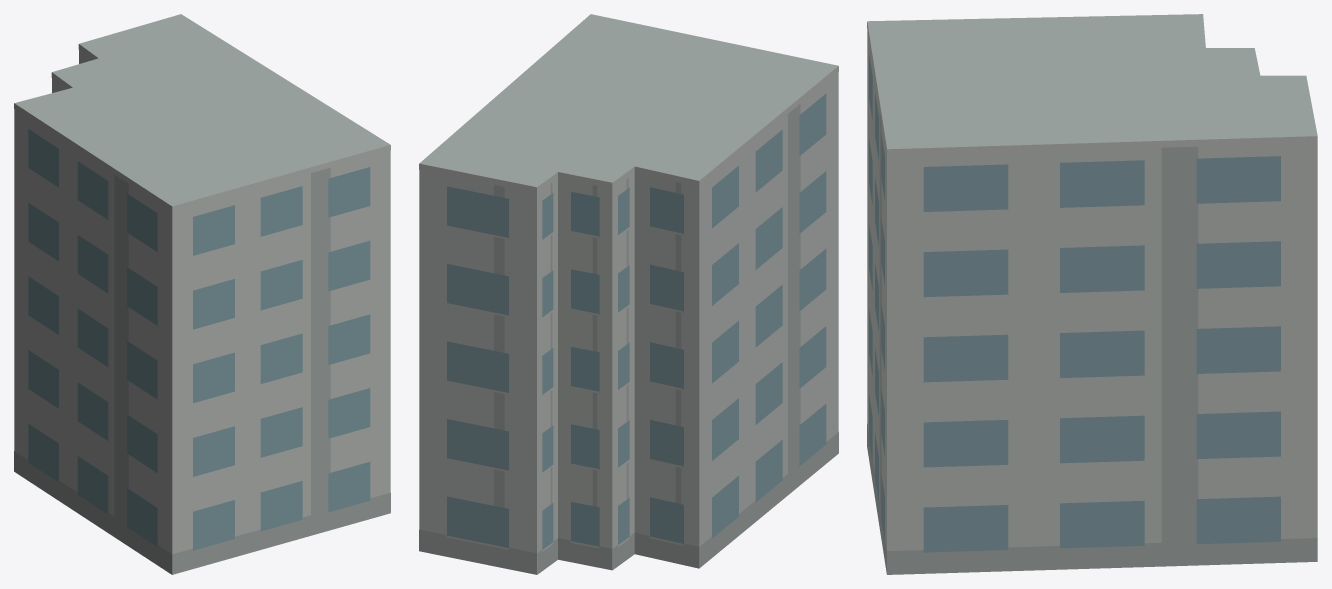
The model's file is survey-upis-32964768.glb.
The picture shows the model from 3 angles, left to right: view 1: azimuth 30°, elevation 25°; view 2: azimuth 150°, elevation 25°; view 3: azimuth 270°, elevation 25°; orthographic projection. The views are drawn at different scales.
Visible parts, largest first — view 1: survey-upis-32964768.tmp; view 2: survey-upis-32964768.tmp; view 3: survey-upis-32964768.tmp.
Boxes of the visible parts, x1,y1,x2,y2 form: survey-upis-32964768.tmp: (14, 14, 390, 574); survey-upis-32964768.tmp: (419, 14, 838, 574); survey-upis-32964768.tmp: (867, 14, 1317, 574).
Bounding box in the file's own units: 10.4 × 15.25 × 14.64.
